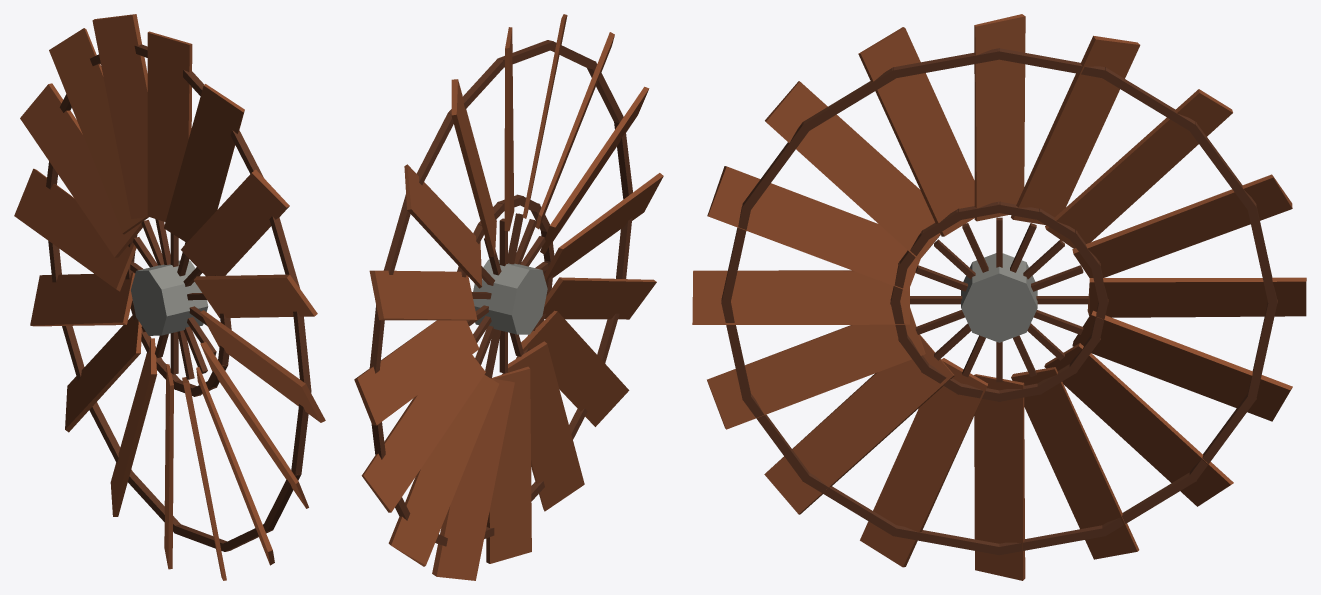
The model's file is windmill_rotor.glb.
3 views of the same model, side by side, from view 1: azimuth 30°, elevation 25°; view 2: azimuth 150°, elevation 25°; view 3: azimuth 270°, elevation 25° (orthographic). The views are drawn at different scales.
Parts seen in each view (by area): view 1: windmill_rotor; view 2: windmill_rotor; view 3: windmill_rotor.
Part boxes in pixels (<box>): windmill_rotor: <box>14,14,325,580</box>; windmill_rotor: <box>354,14,663,580</box>; windmill_rotor: <box>692,14,1306,580</box>.
Bounding box in the file's own units: 0.4 × 4.8 × 4.81.
